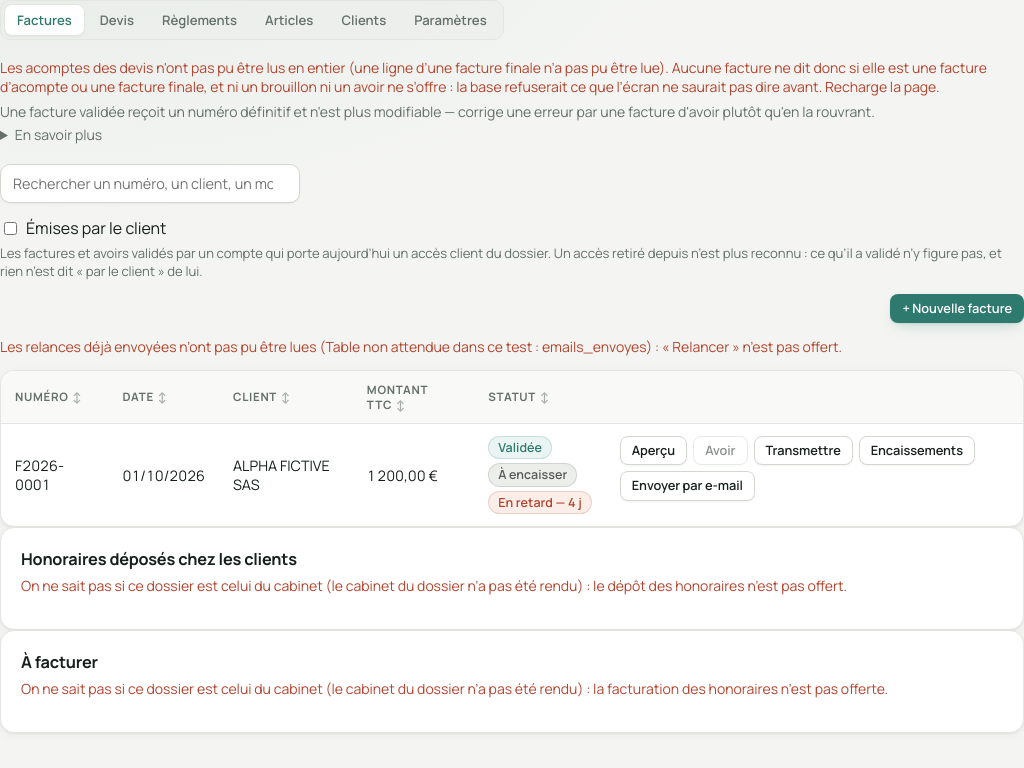
Devis dans l’onglet Factures — cabinet › le refus de la base se dit dans la fenêtre, et la liste est relue
Expected: the text "F2026-0001" is shown, [15,456,64,494]
Click the tab "Devis" at point(117, 20), box [87,4,147,36]
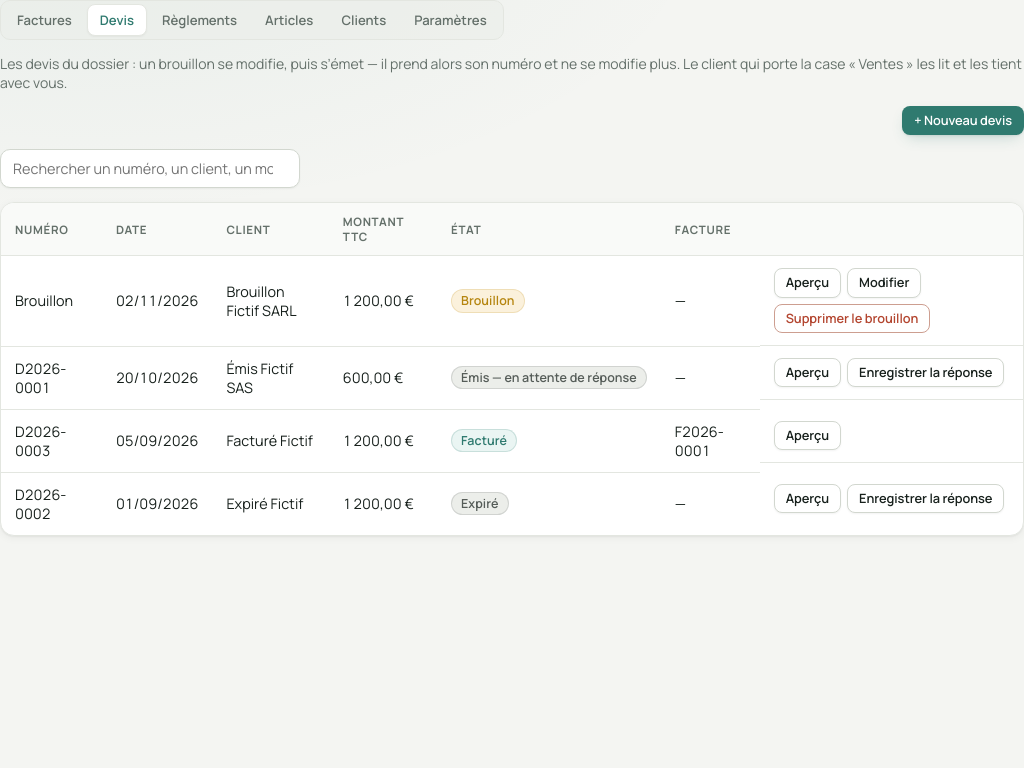
Click the button "Modifier" at point(884, 283), box [847,268,921,298]
(page scrolled)
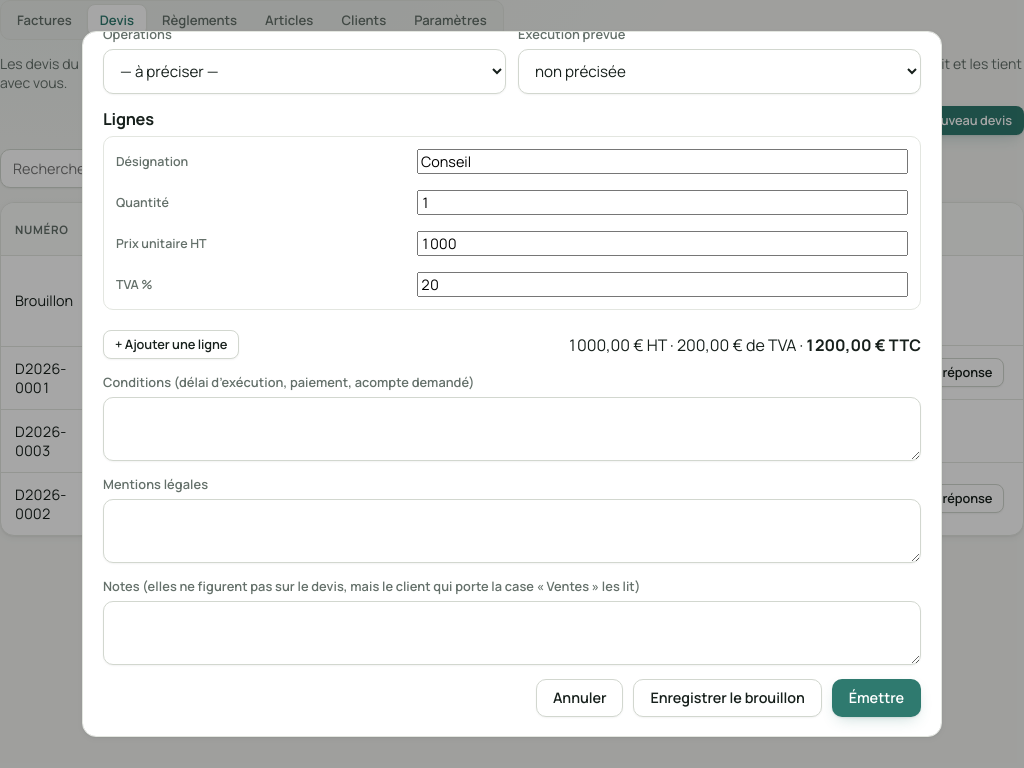
Click the button "Enregistrer le brouillon" at point(728, 698), box [634,679,822,717]
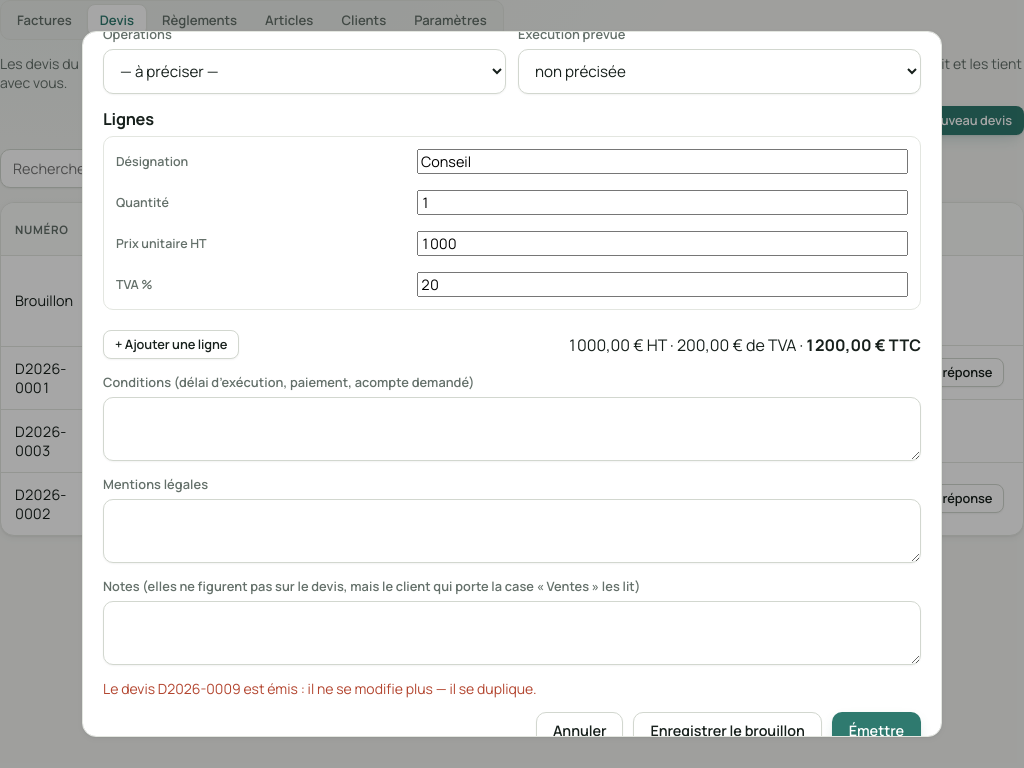
Now the message reads "Le devis D2026-0009 est émis : il ne se modifie plus — il se duplique.", box [103,679,537,698]
